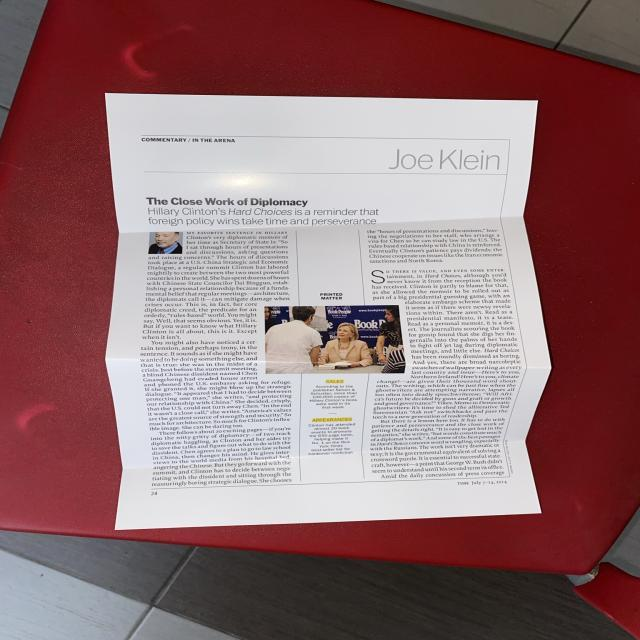document: (105, 94, 552, 530)
